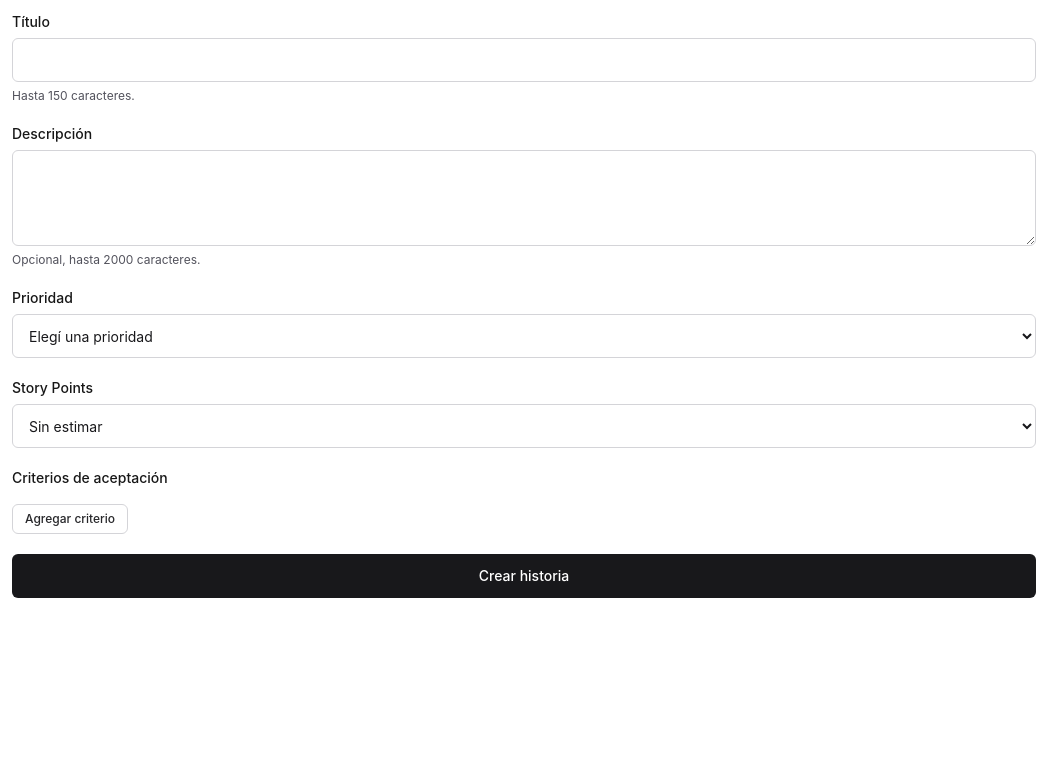
it: 003/US1 - Registrar una historia en el backlog › Cero Story Points
Step 1. Type "Exportar el reporte de velocidad a PDF" into the field labelled "Título" → (524, 60), box [12,38,1036,82]
Step 2. Type "El equipo necesita compartir la velocidad con la gerencia." into the text box labelled "Descripción" → (524, 198), box [12,150,1036,246]
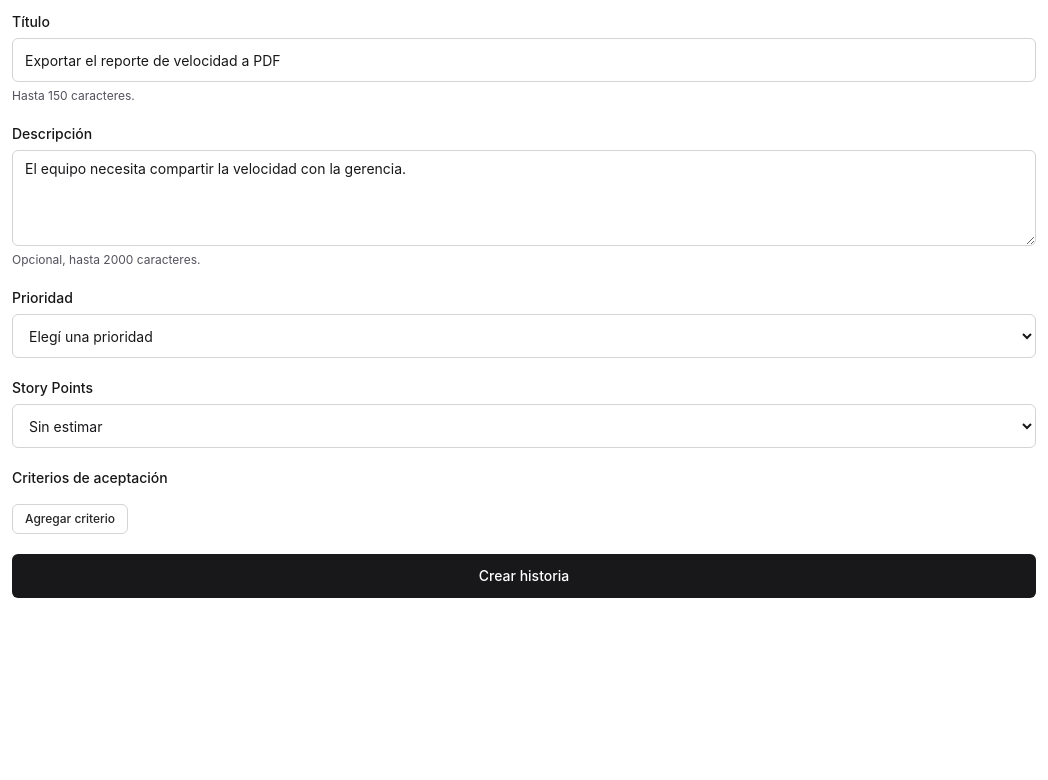
Step 3. Select "Alta" in the dropdown labelled "Prioridad" → (524, 336), box [12,314,1036,358]
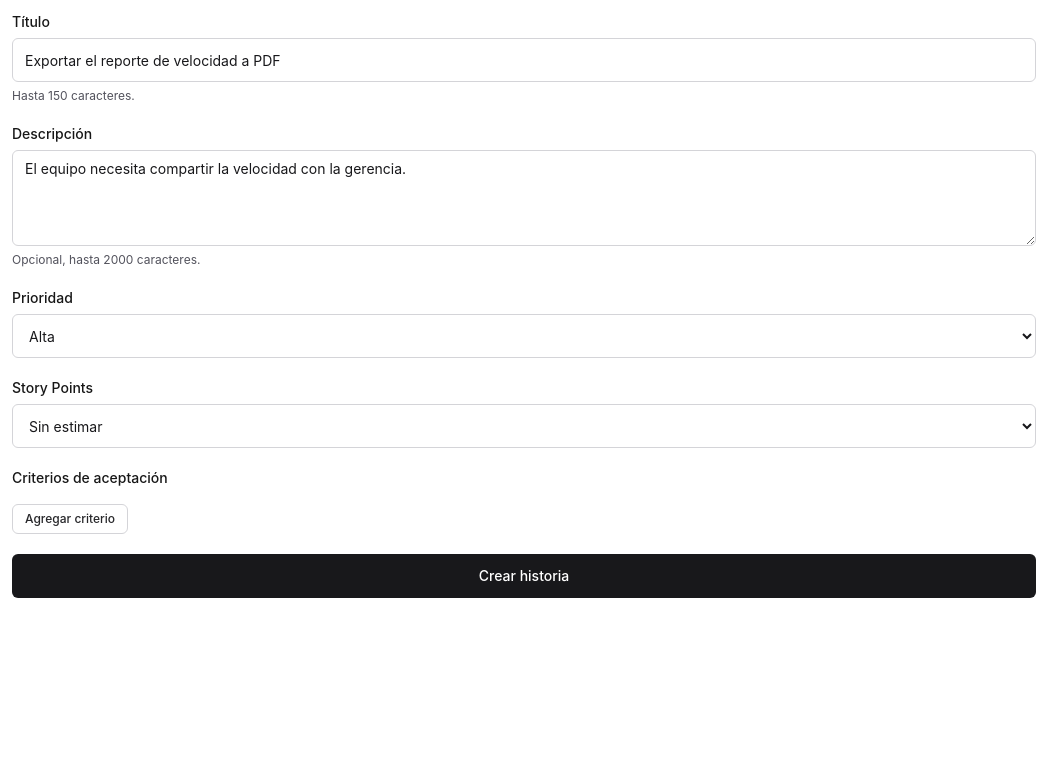
Step 4. Select "0" in the dropdown labelled "Story Points" → (524, 426), box [12,404,1036,448]
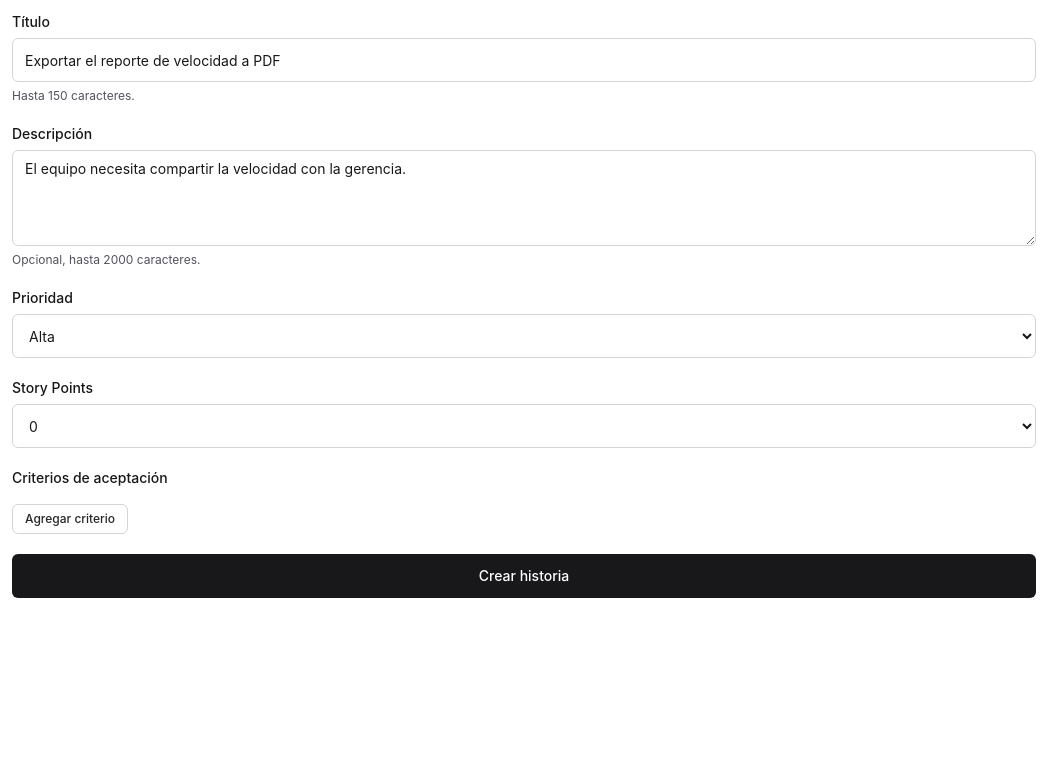
Step 5. Click the button "Agregar criterio" → (70, 519), box [12,504,128,534]
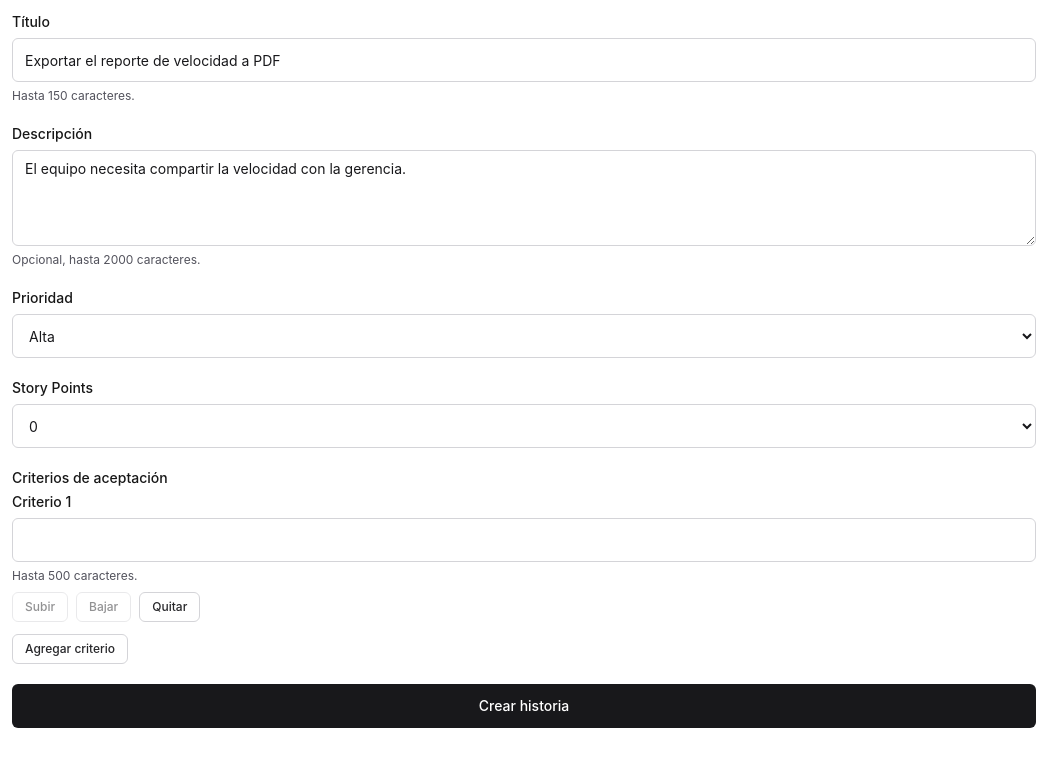
Step 6. Type "El PDF incluye la velocidad de los últimos cinco sprints." into the field labelled "Criterio 1" → (524, 540), box [12,518,1036,562]
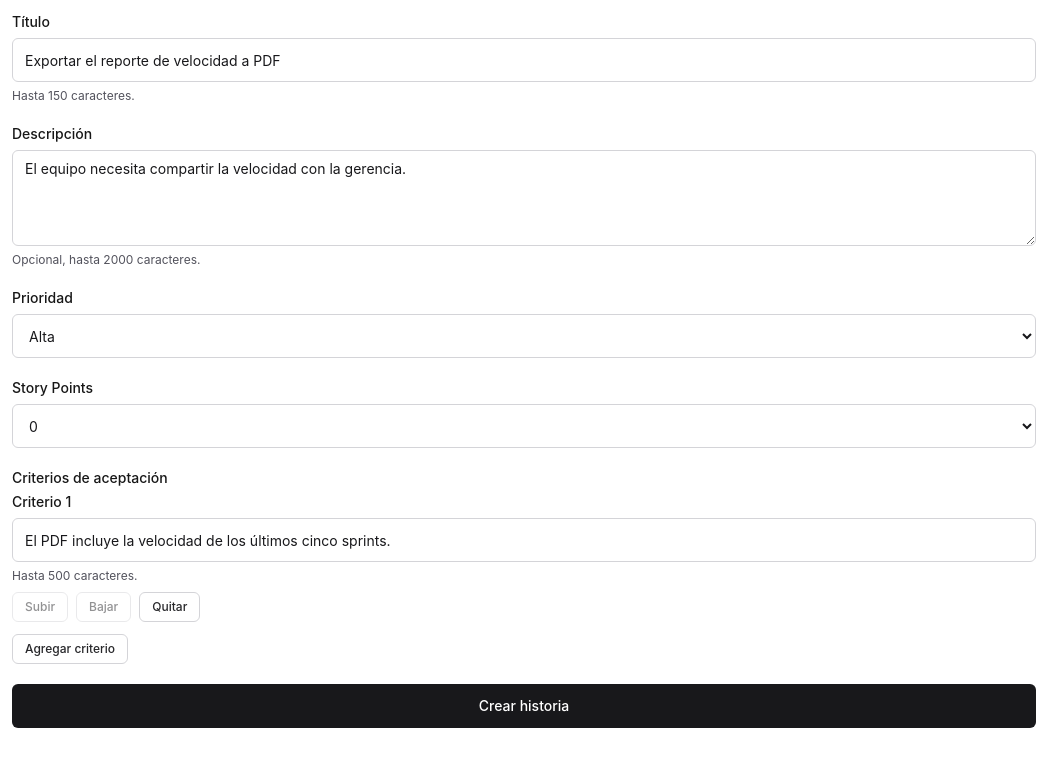
Step 7. Click the button "Crear historia" → (524, 706), box [12,684,1036,728]
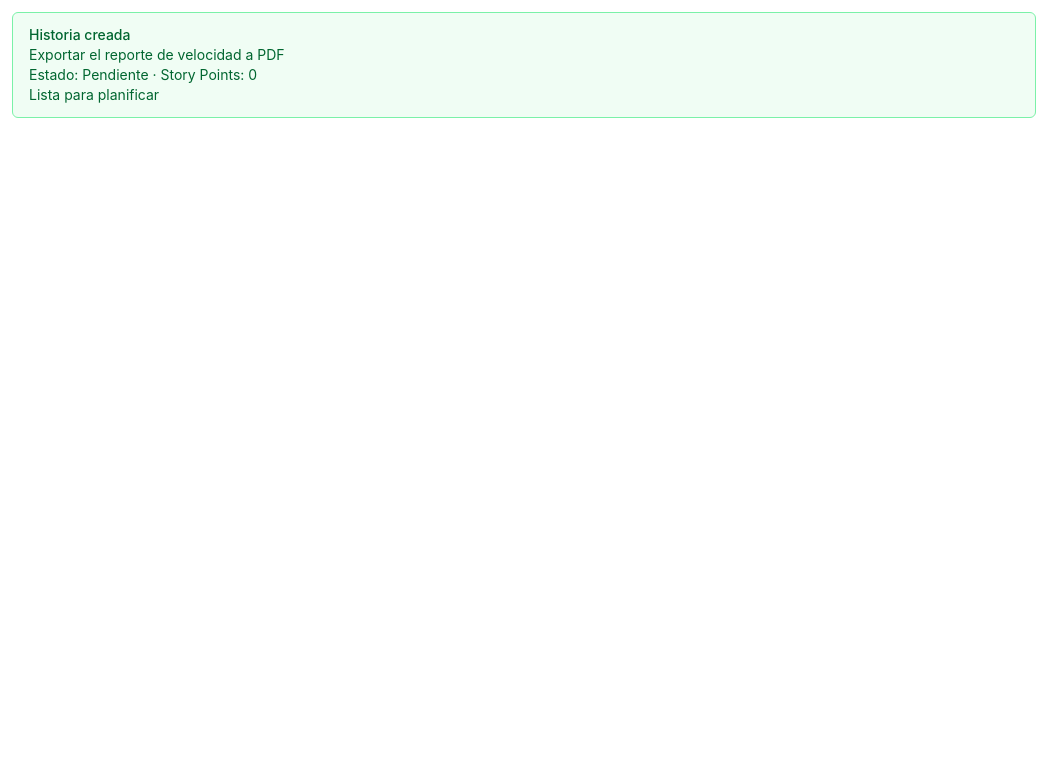
Expected: the text "sin estimar" is not shown
Expected: the text "Historia creada" is shown, [29,26,130,43]
Expected: the text "Lista para planificar" is shown, [29,86,159,103]
